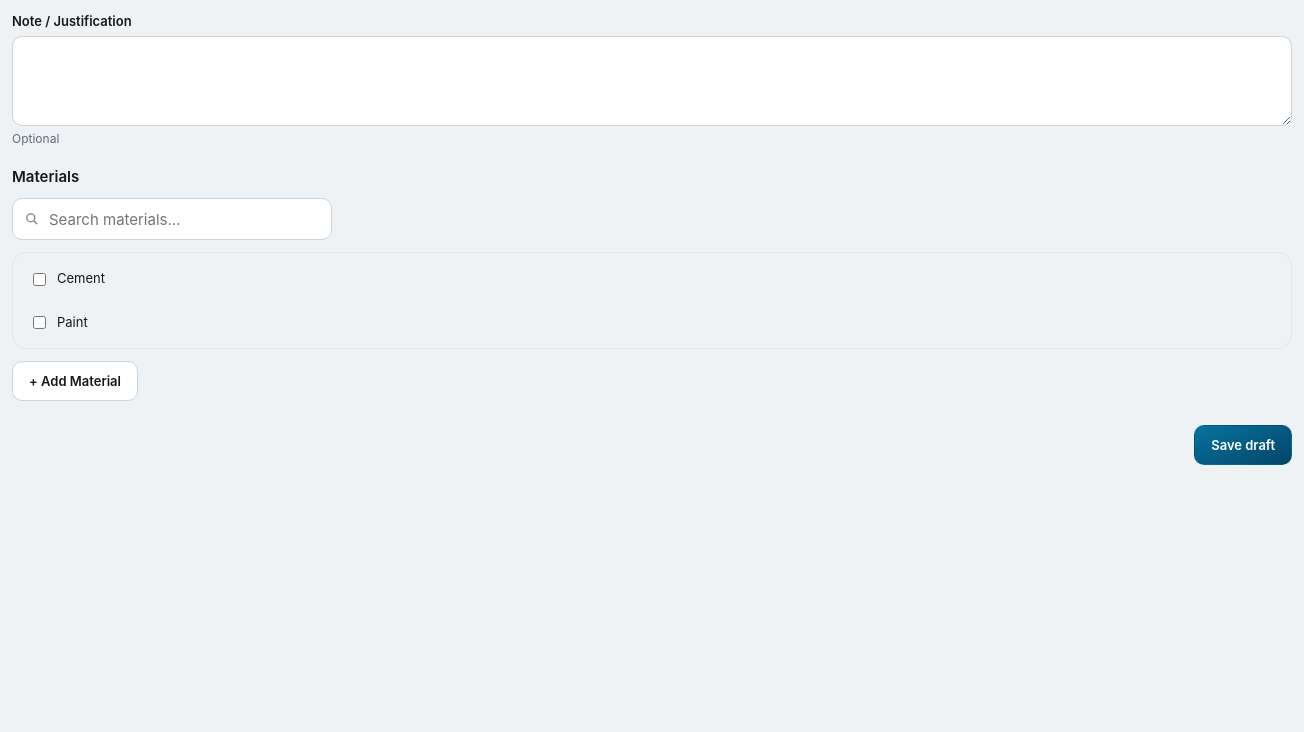
DemandForm — catalog picker › a selected item with quantity -3 is reported, never silently dropped
The width and height of the screenshot is (1304, 732).
Click the checkbox labelled "Cement". click: (40, 279)
box: [33, 272, 46, 286]
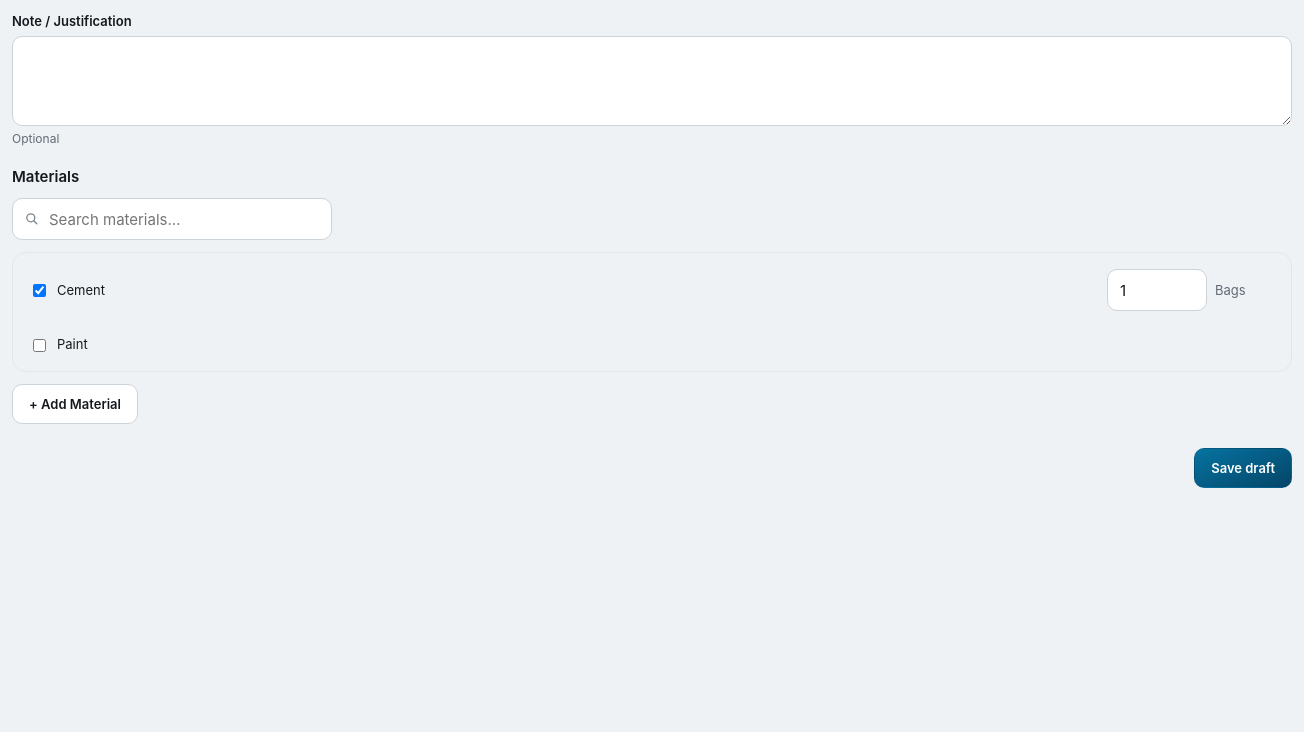
Replace the text in the number field named "Quantity for Cement" with "50". click: (1157, 290)
box: [1107, 269, 1207, 311]
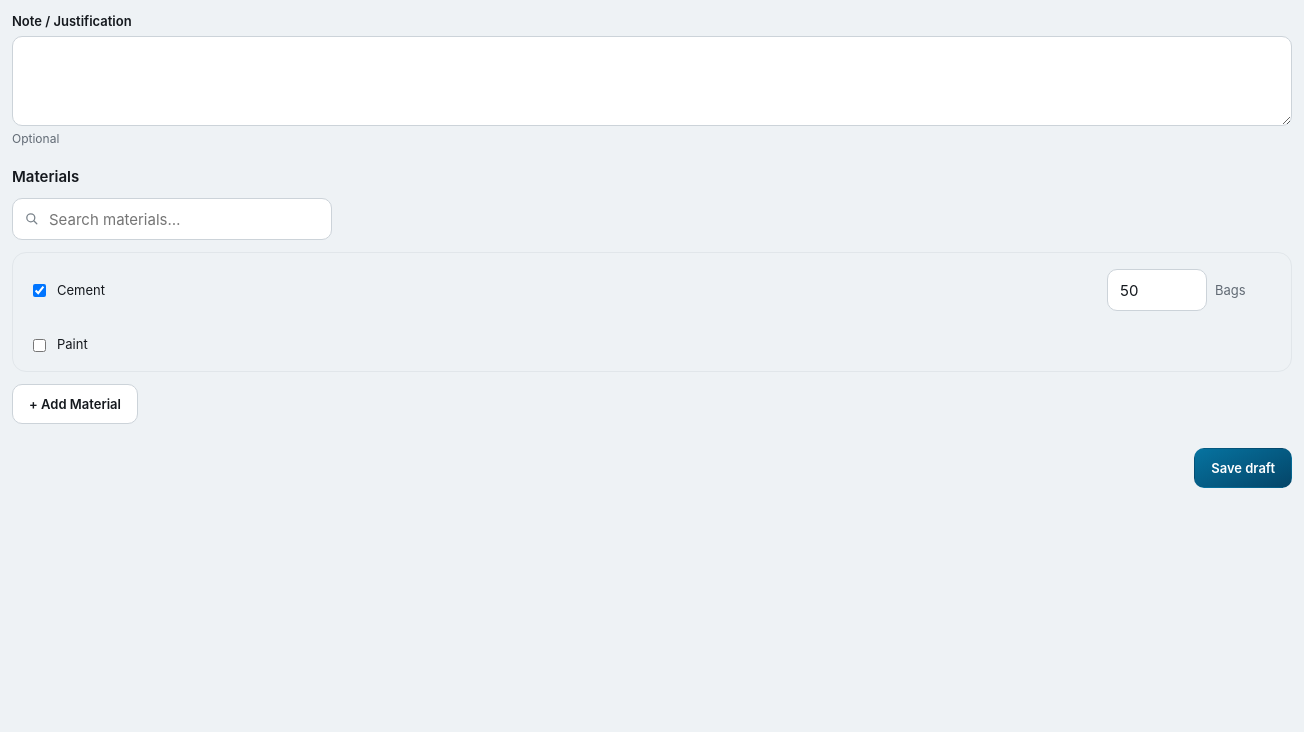
Click the checkbox labelled "Paint". click: (40, 345)
box: [33, 338, 46, 352]
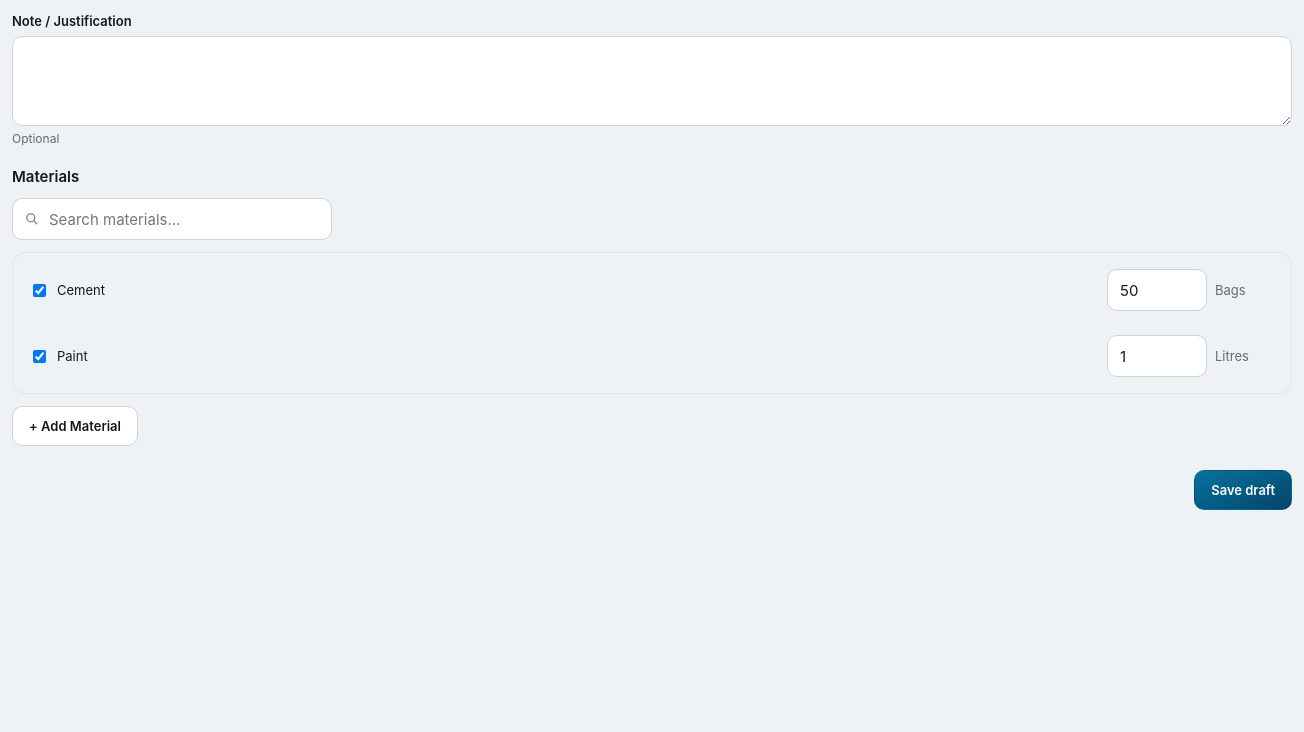
Replace the text in the number field named "Quantity for Paint" with "-3". click: (1157, 356)
box: [1107, 335, 1207, 377]
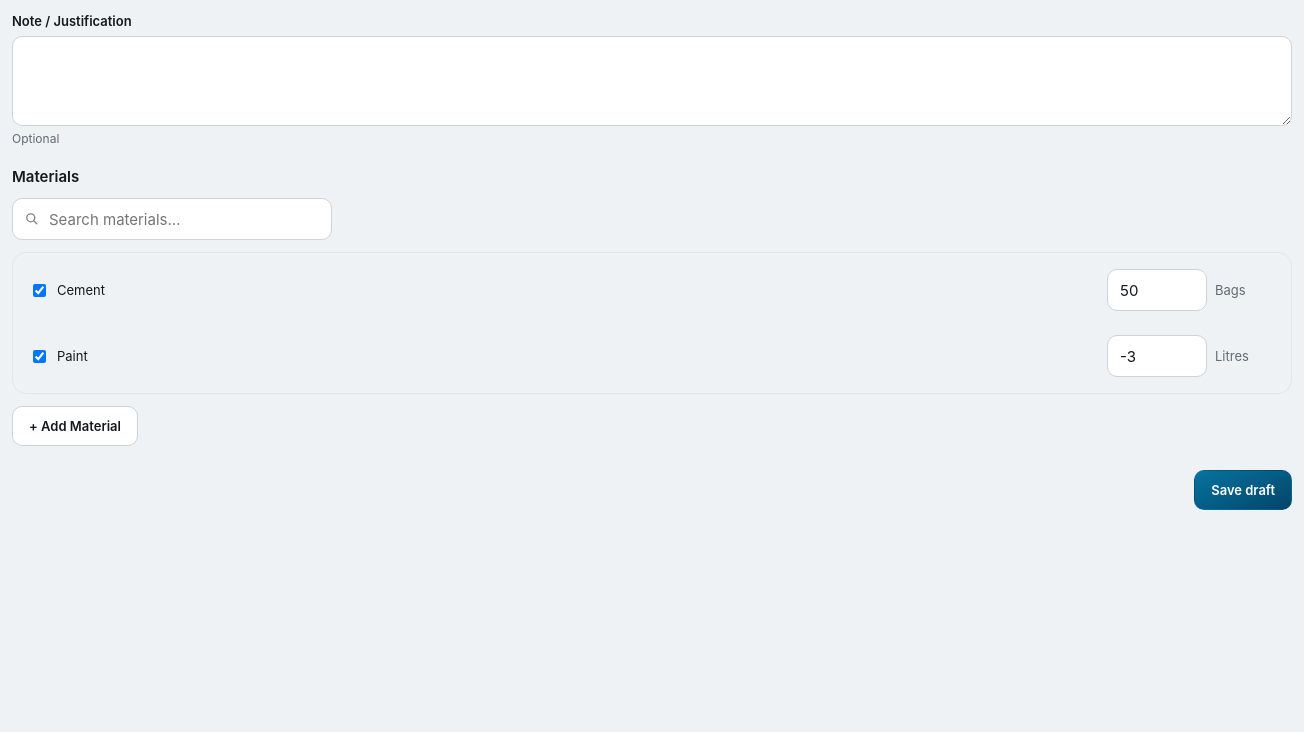
Click the button "Save draft". click: (1243, 490)
box: [1194, 470, 1292, 510]
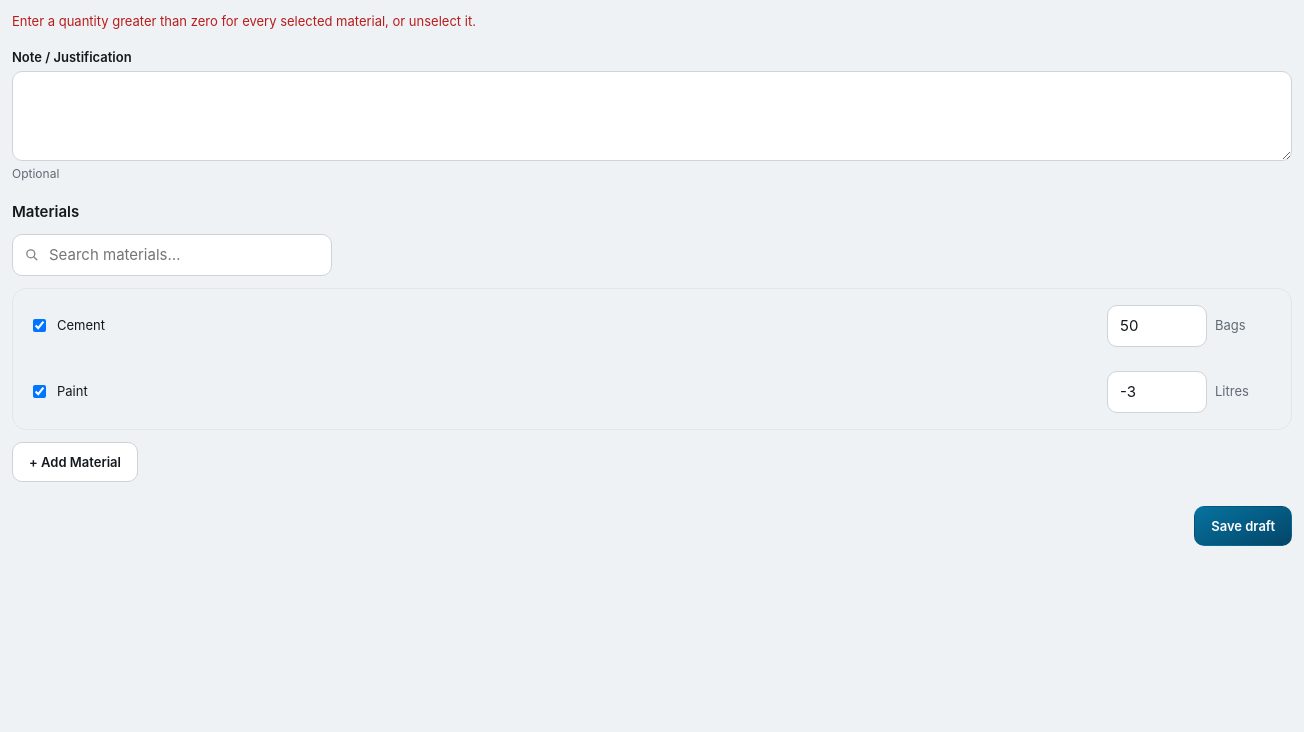
Check: the message shows "quantity greater than zero", box [12, 13, 476, 29]
